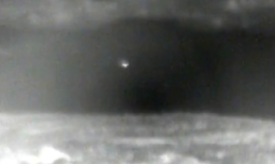Target: (123, 65, 129, 68)
